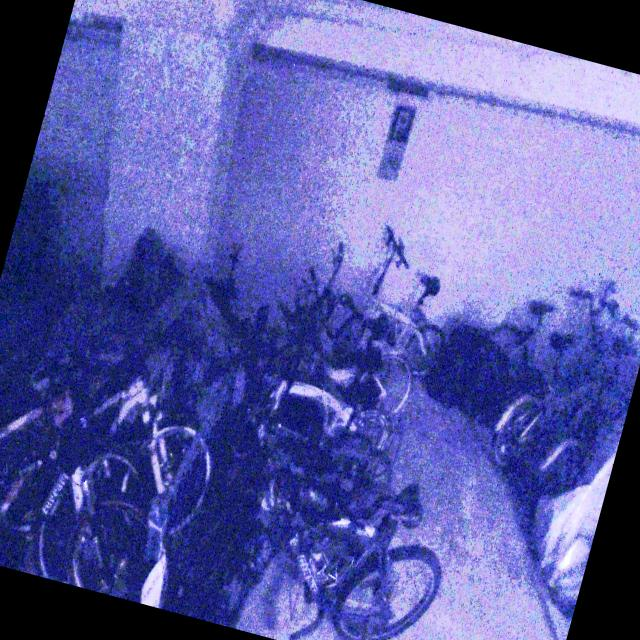bike: (0, 309, 240, 574), (195, 436, 463, 640), (0, 328, 177, 597), (485, 282, 640, 492), (269, 233, 443, 414), (323, 220, 469, 382), (472, 266, 620, 424)
